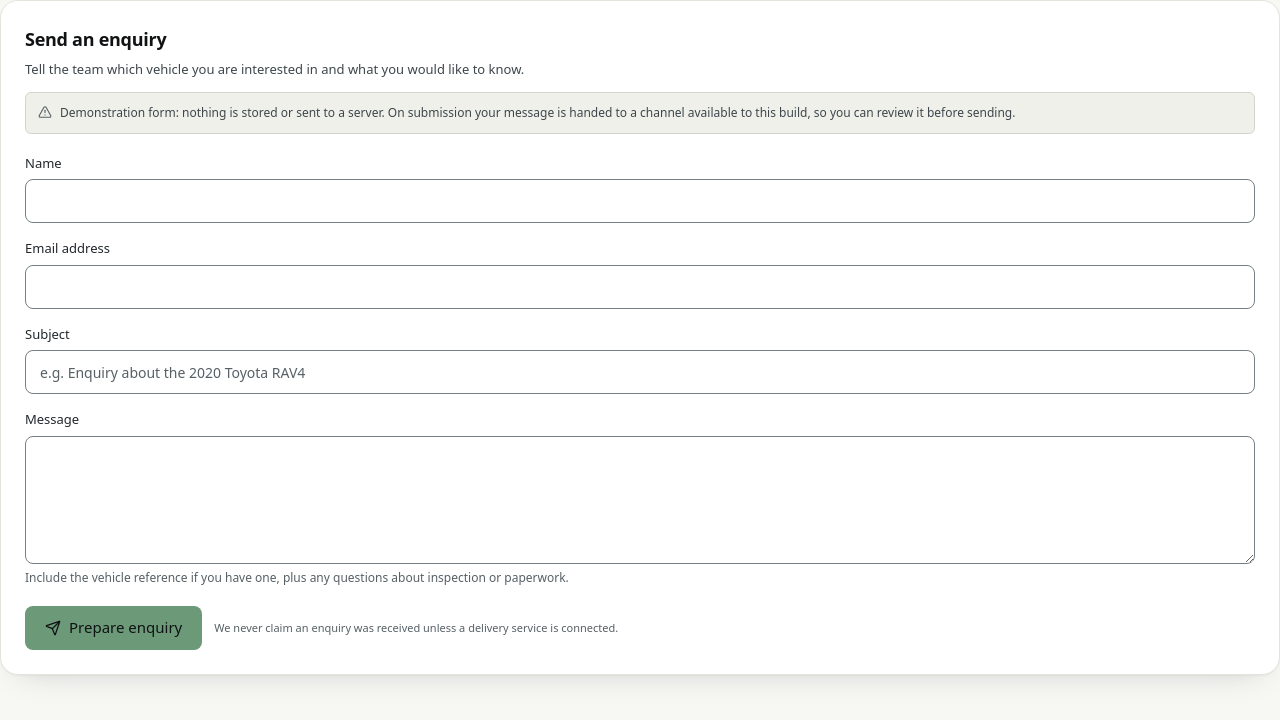
it: EnquiryForm validation › clears a field error as soon as the visitor corrects it
The width and height of the screenshot is (1280, 720).
Click the button "Prepare enquiry" at [114, 628], box [25,606,202,650]
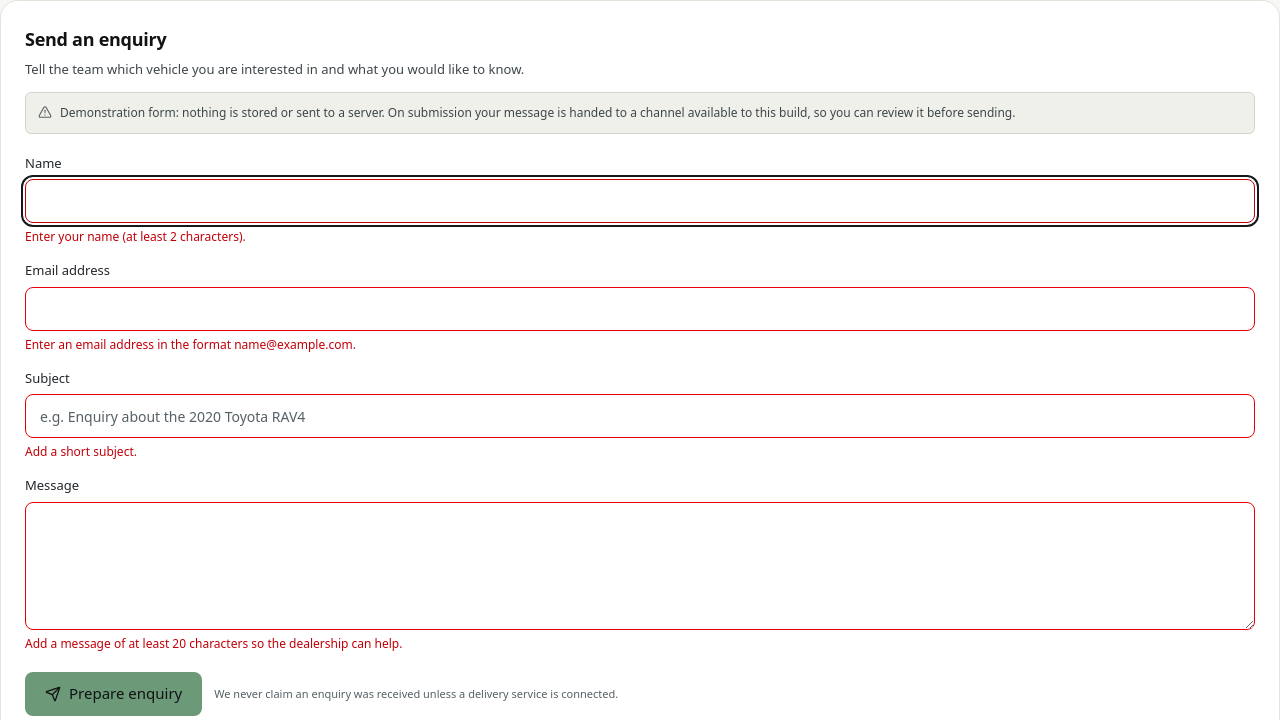
Expected: the text "Enter your name (at least 2 characters)." is shown, [25,228,246,245]
Type "Ada" into the field labelled "Name" at [640, 201], box [25,179,1255,223]
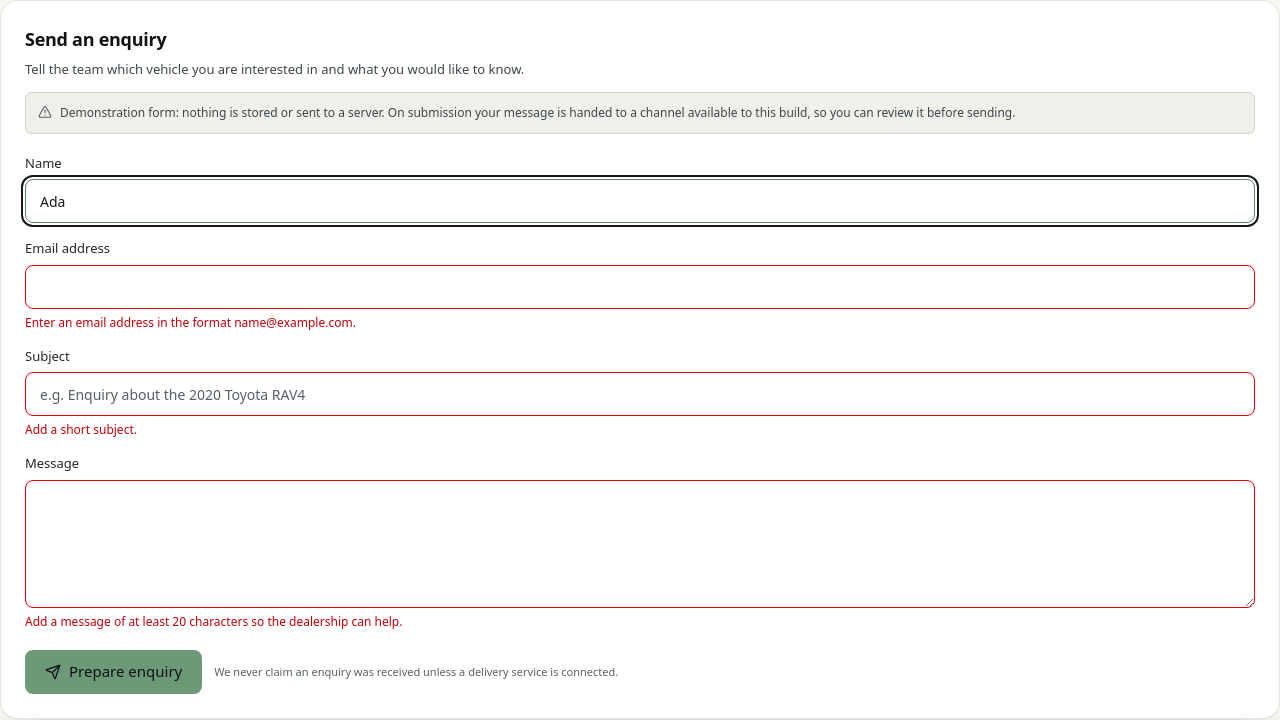
Expected: the text "Enter your name" is gone
